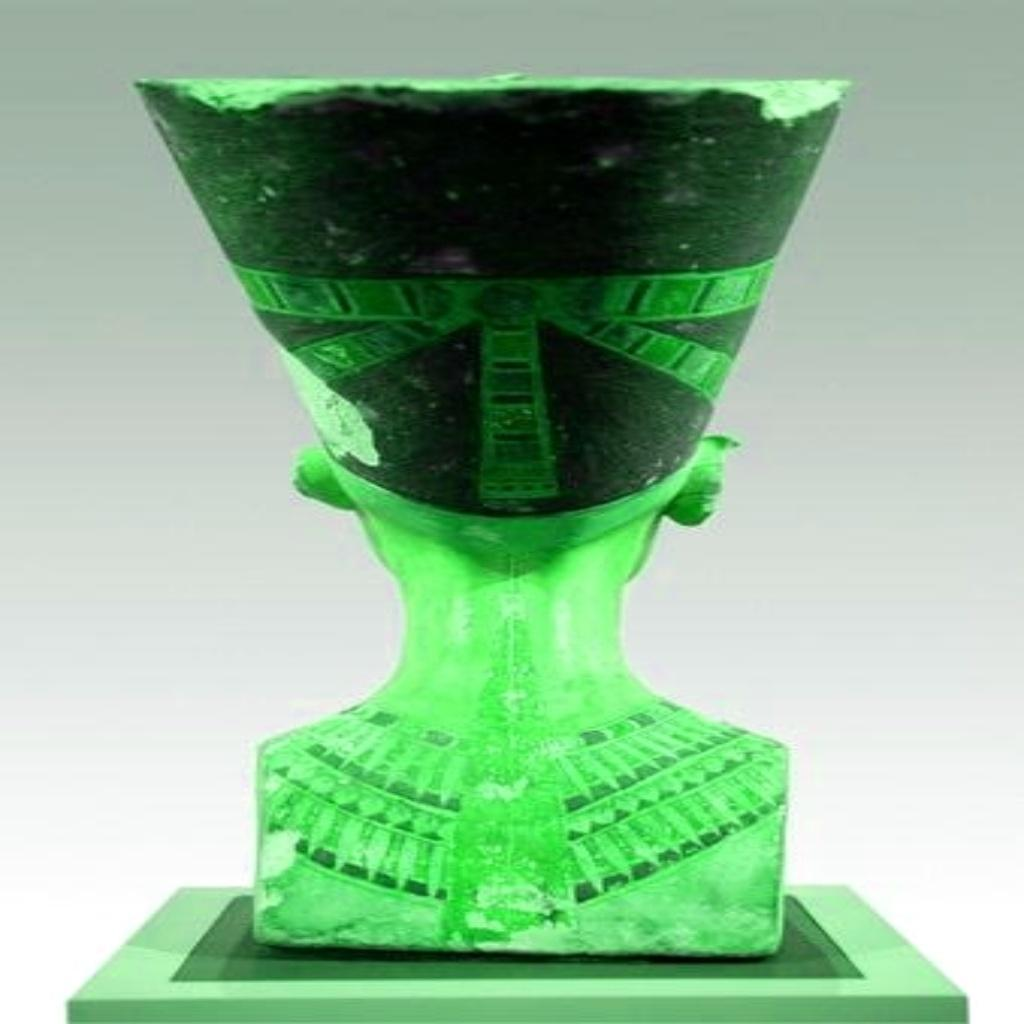Nefertiti: (130, 71, 852, 959)
